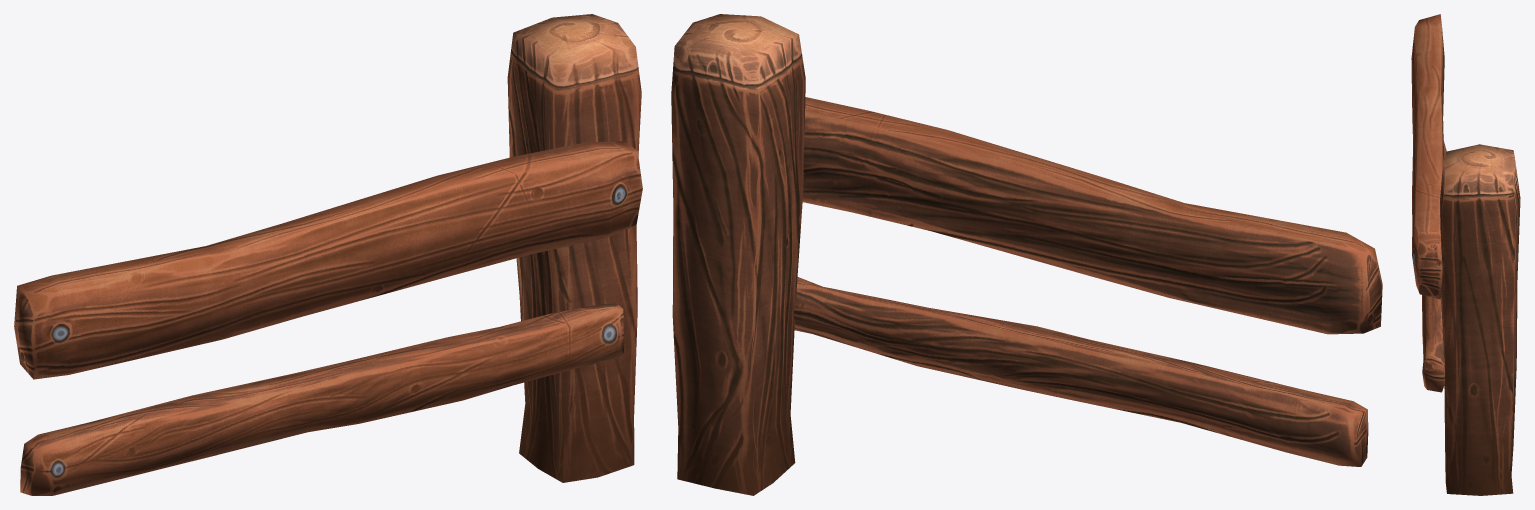
The model's file is fence2.obj.
3 views of the same model, side by side, from view 1: azimuth 30°, elevation 25°; view 2: azimuth 150°, elevation 25°; view 3: azimuth 270°, elevation 25° (orthographic). The views are drawn at different scales.
Parts seen in each view (by area): view 1: STFence2_Cubo.010; view 2: STFence2_Cubo.010; view 3: STFence2_Cubo.010.
Part boxes in pixels (left/top/right/bottom): STFence2_Cubo.010: left=14, top=14, right=642, bottom=495; STFence2_Cubo.010: left=671, top=14, right=1382, bottom=495; STFence2_Cubo.010: left=1411, top=14, right=1520, bottom=495.
Size of the model in its own units: 1.47 by 0.9703 by 0.2929.
